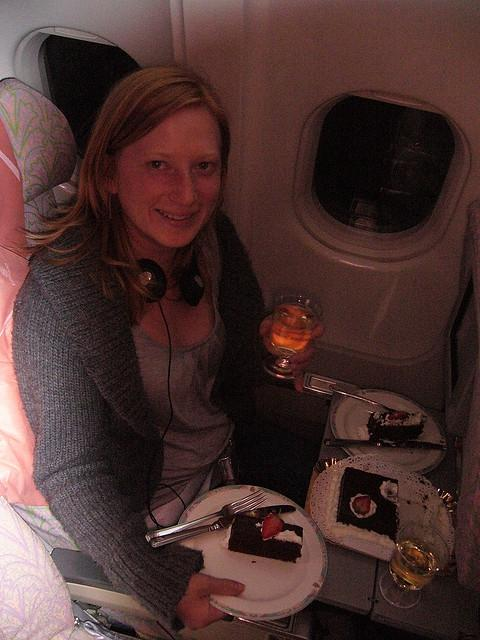strawberry: (261, 514, 285, 539), (352, 495, 371, 516), (392, 413, 400, 420)
